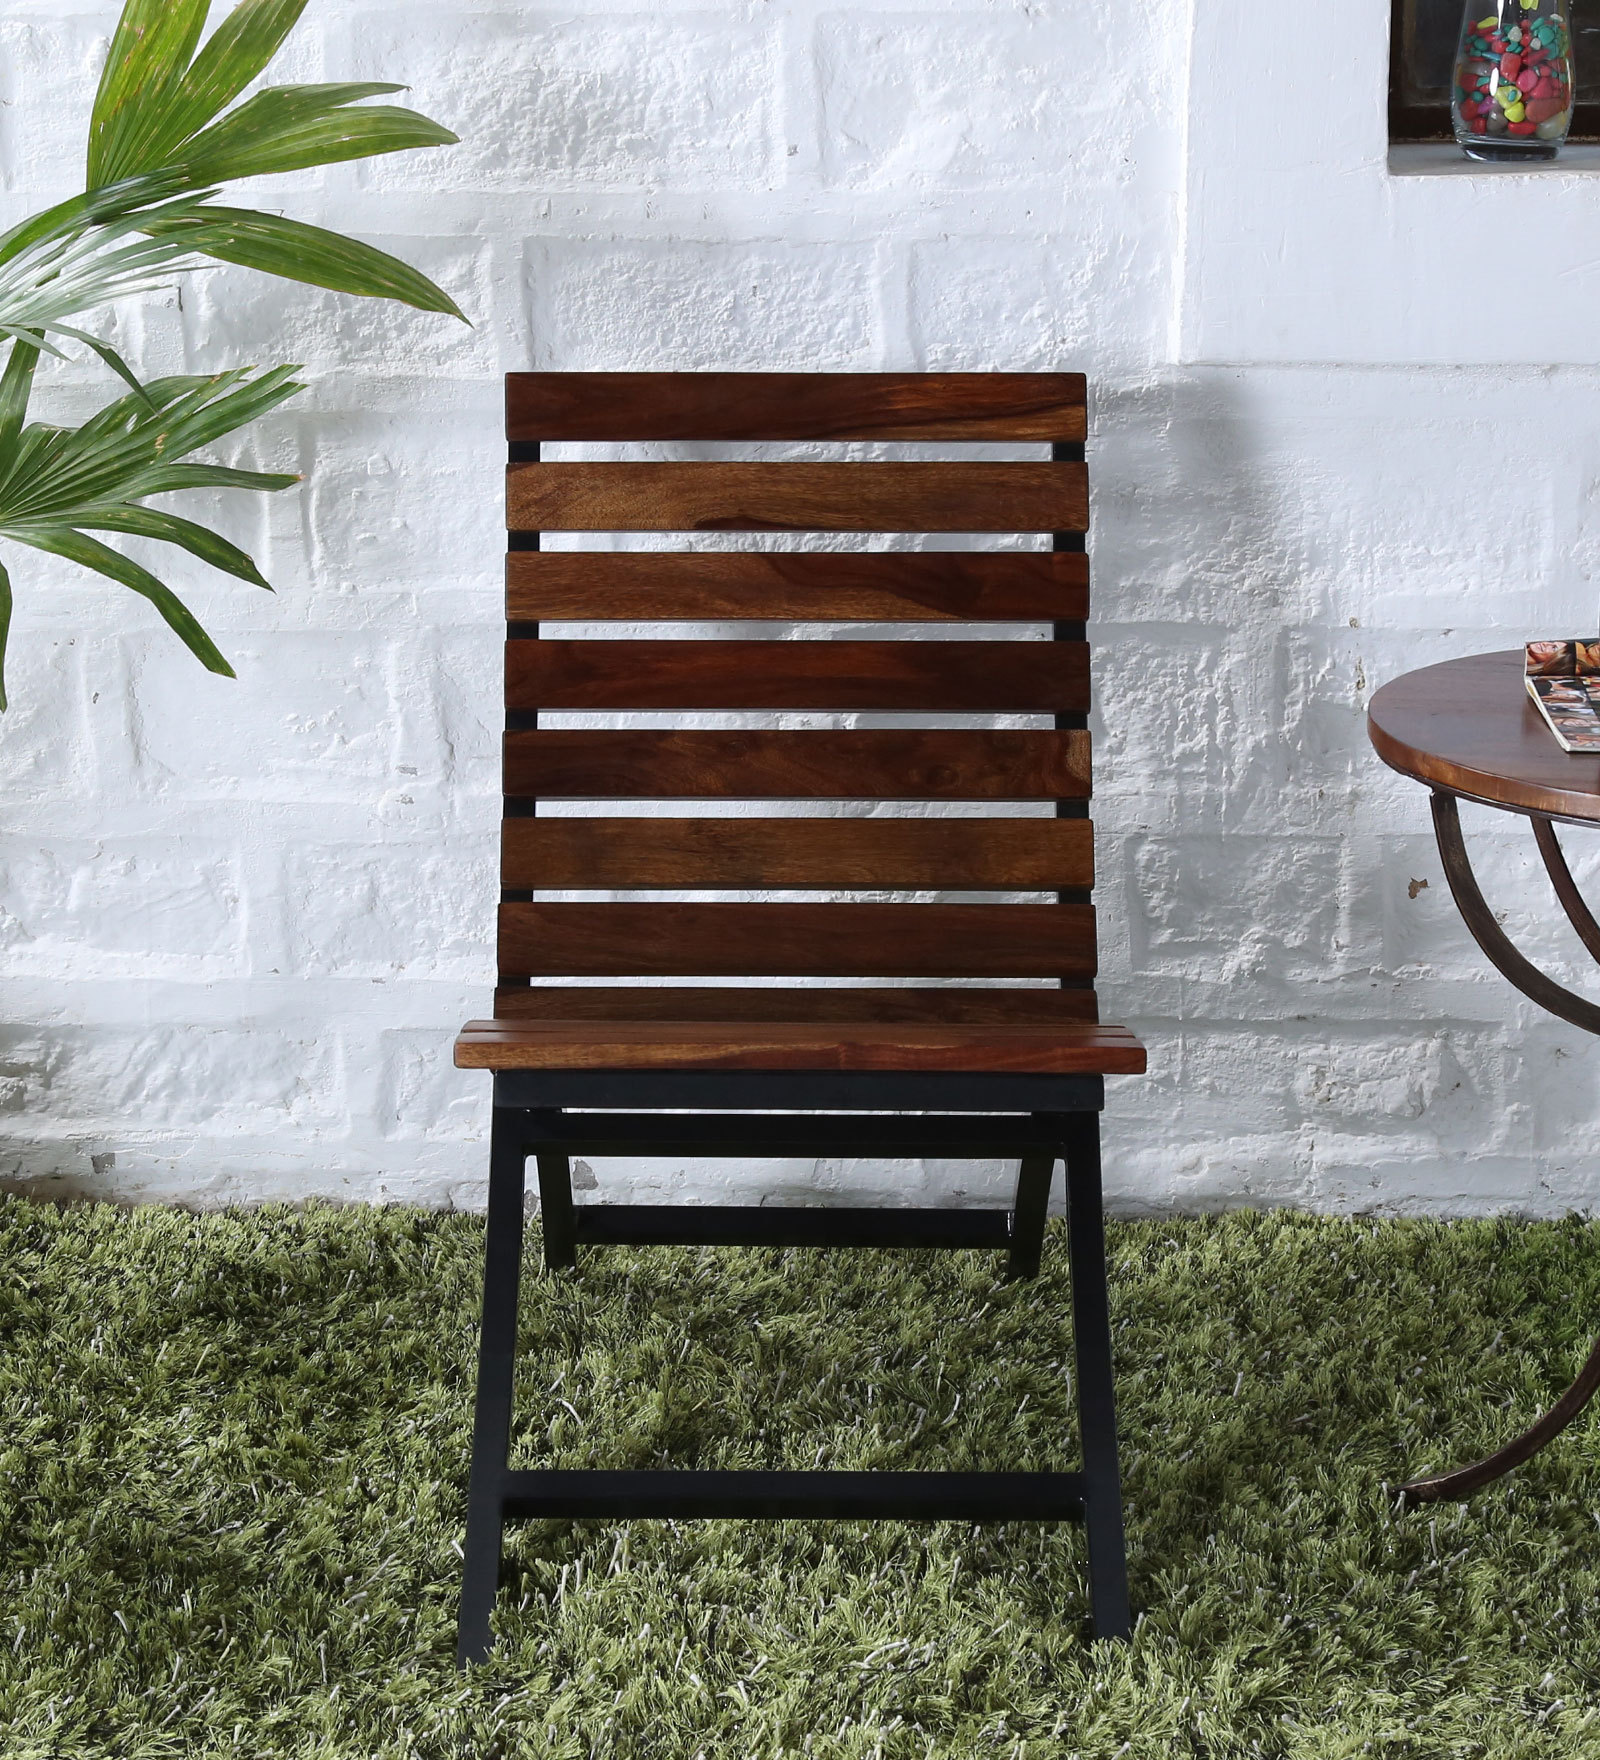Mexico Folding Chair by Bohemiana: (449, 363, 1165, 1648)
